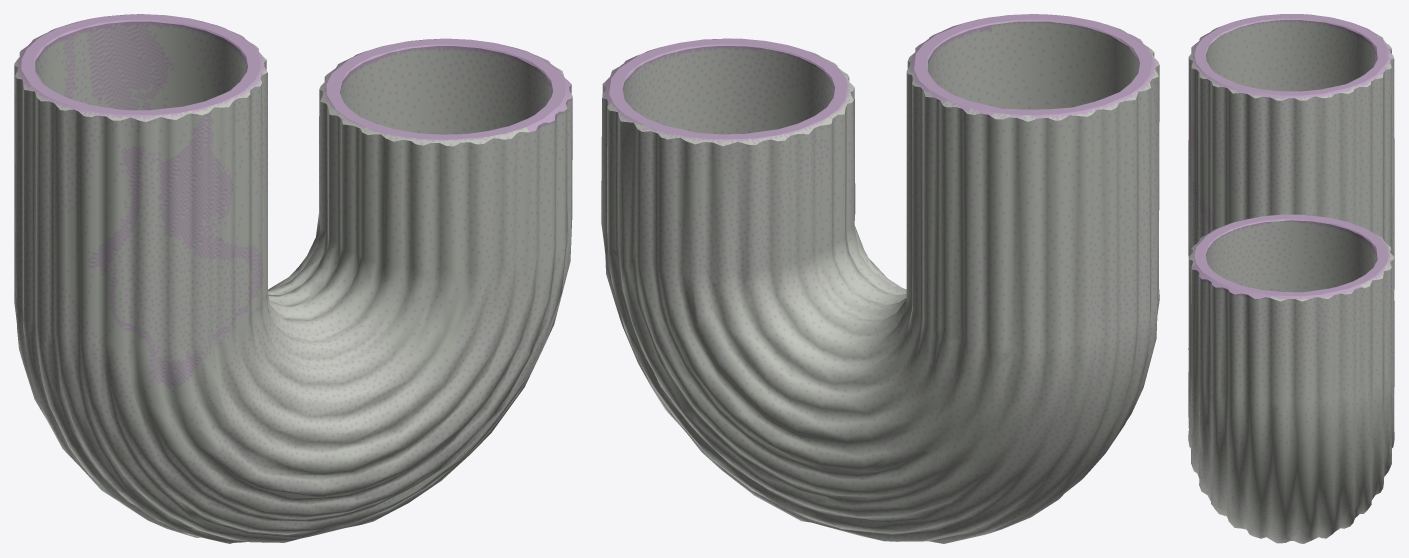
The picture shows the model from 3 angles, left to right: view 1: azimuth 30°, elevation 25°; view 2: azimuth 150°, elevation 25°; view 3: azimuth 270°, elevation 25°; orthographic projection. The views are drawn at different scales.
Parts seen in each view (by area): view 1: ASY_ART_10537656_S01_NV01; view 2: ASY_ART_10537656_S01_NV01; view 3: ASY_ART_10537656_S01_NV01.
Boxes of the visible parts, box(x1,y1,x2,y2) form: ASY_ART_10537656_S01_NV01: box(14, 14, 572, 543); ASY_ART_10537656_S01_NV01: box(601, 14, 1159, 543); ASY_ART_10537656_S01_NV01: box(1188, 14, 1394, 543).
Size of the model in its own units: 0.1376 by 0.1202 by 0.058.
1 material, 1 textured.
